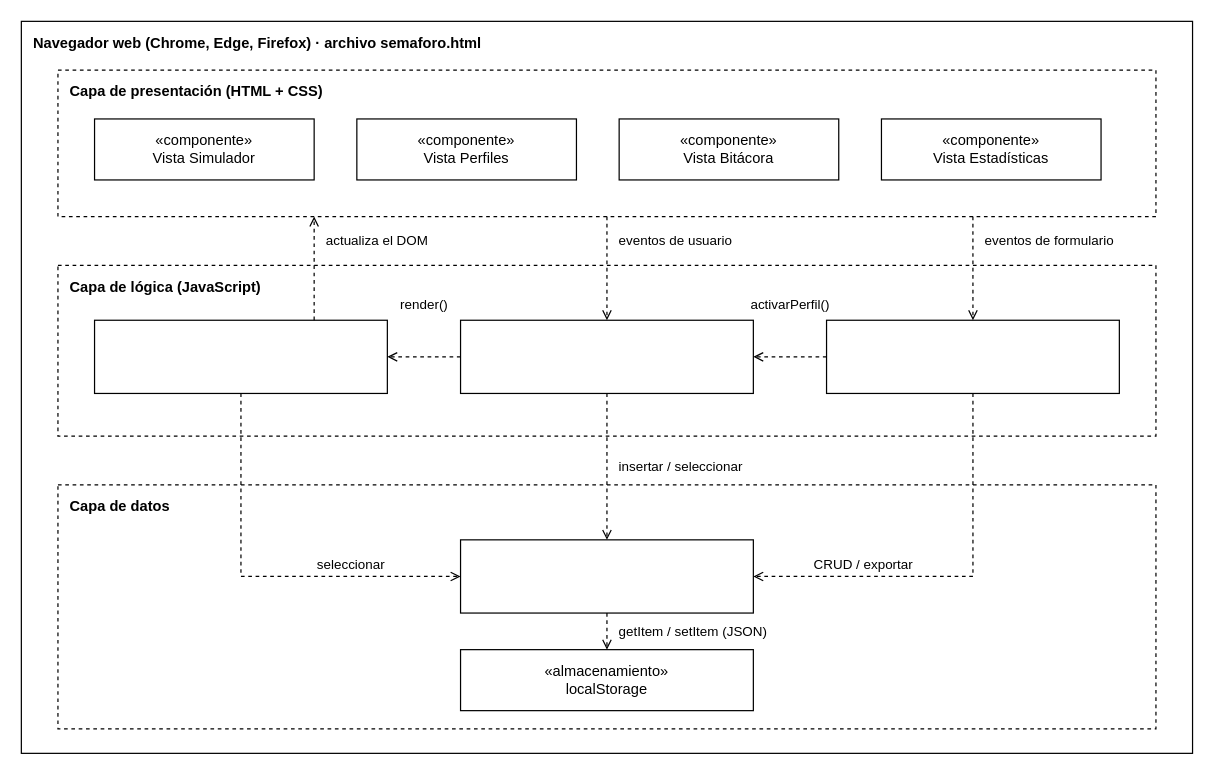
The diagram is 1214 pixels wide and 775 high, and some of its shapes have lost their labels. Each missing label, with the centre of its shape:
"«componente» BaseDatos (CRUD)" belongs at (606,576).
"«componente» Controladores (perfiles, exportación)" belongs at (972,356).
"«componente» Presentacion (render*)" belongs at (240,356).
"«componente» Simulador (máquina de estados)" belongs at (606,356).
